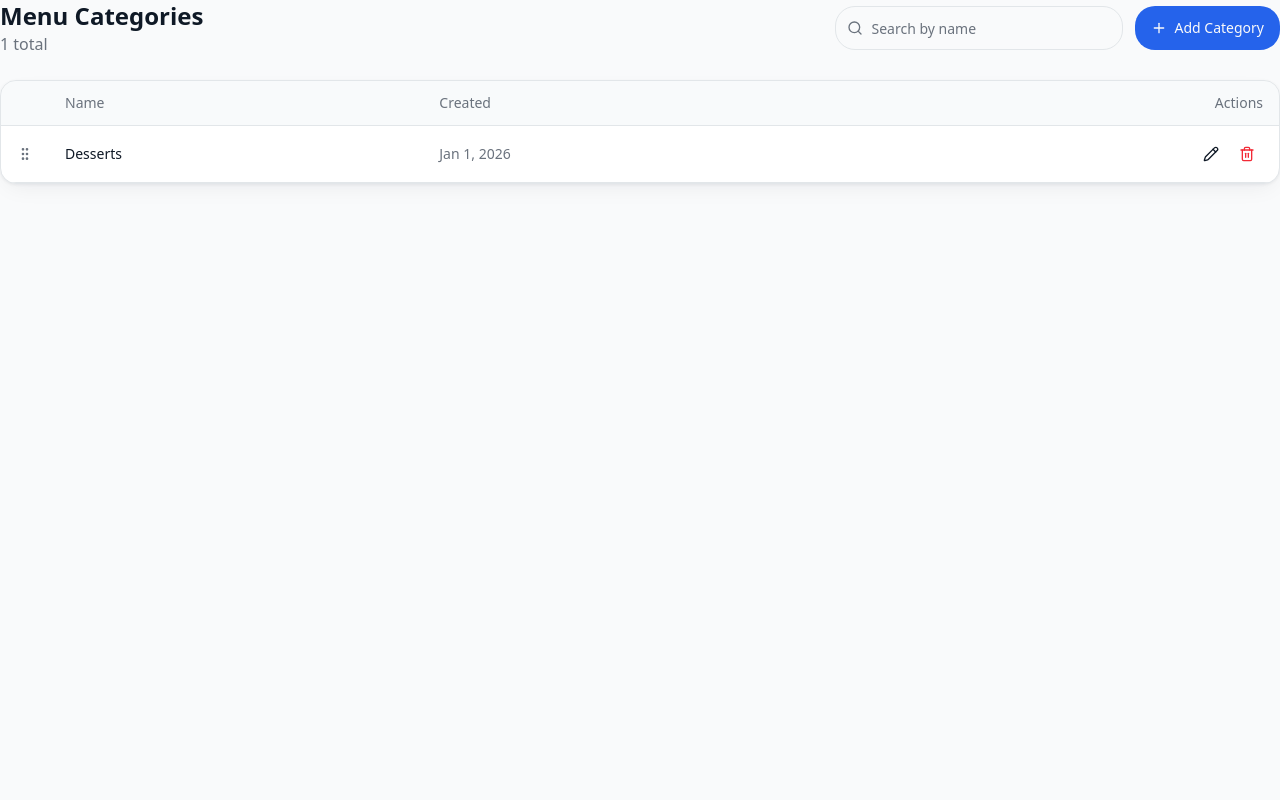
Test: AdminCategoriesPage › maps duplicate name conflict onto the name field
This screenshot has width=1280, height=800.
Check: the text "Desserts" is shown, box left=49, top=126, right=423, bottom=182
Click the button "Add Category" at (1207, 28), box left=1134, top=6, right=1279, bottom=50
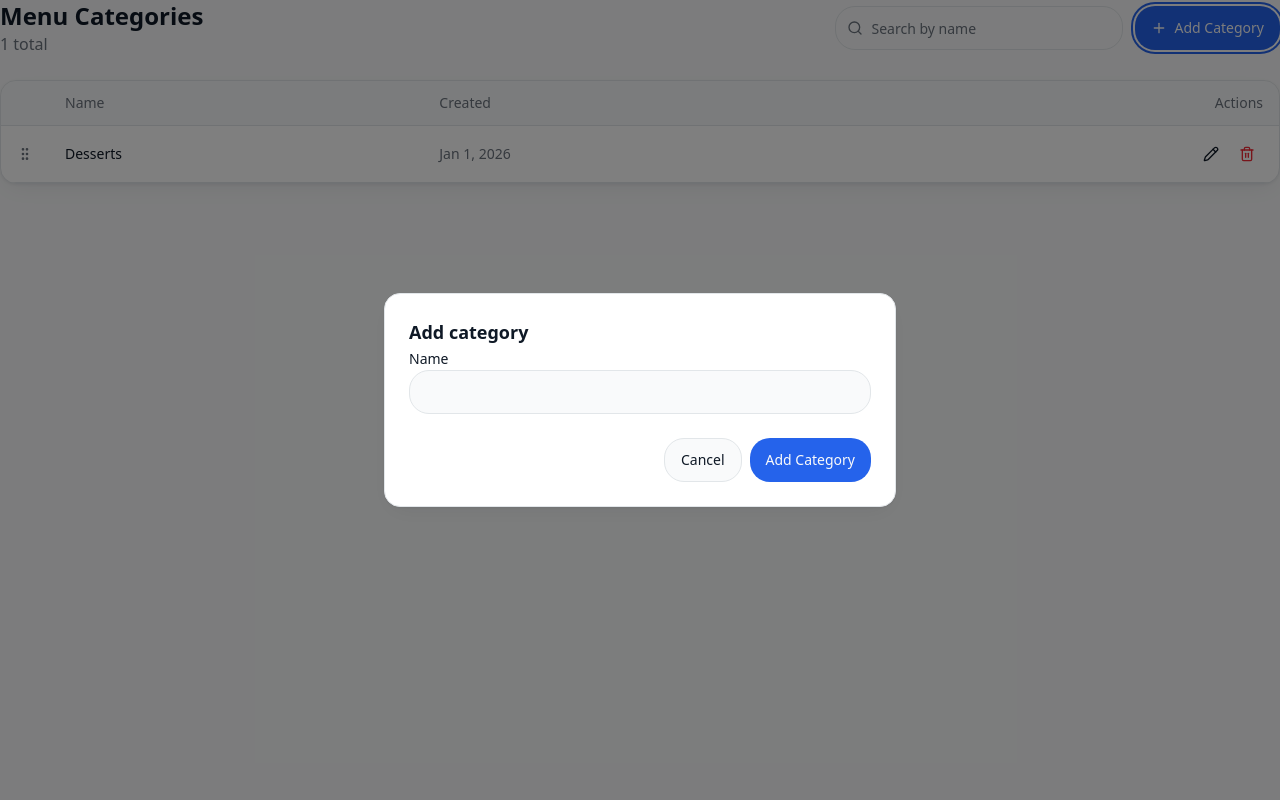
Type "Desserts" into the field labelled "Name" at (640, 392), box left=409, top=370, right=871, bottom=414
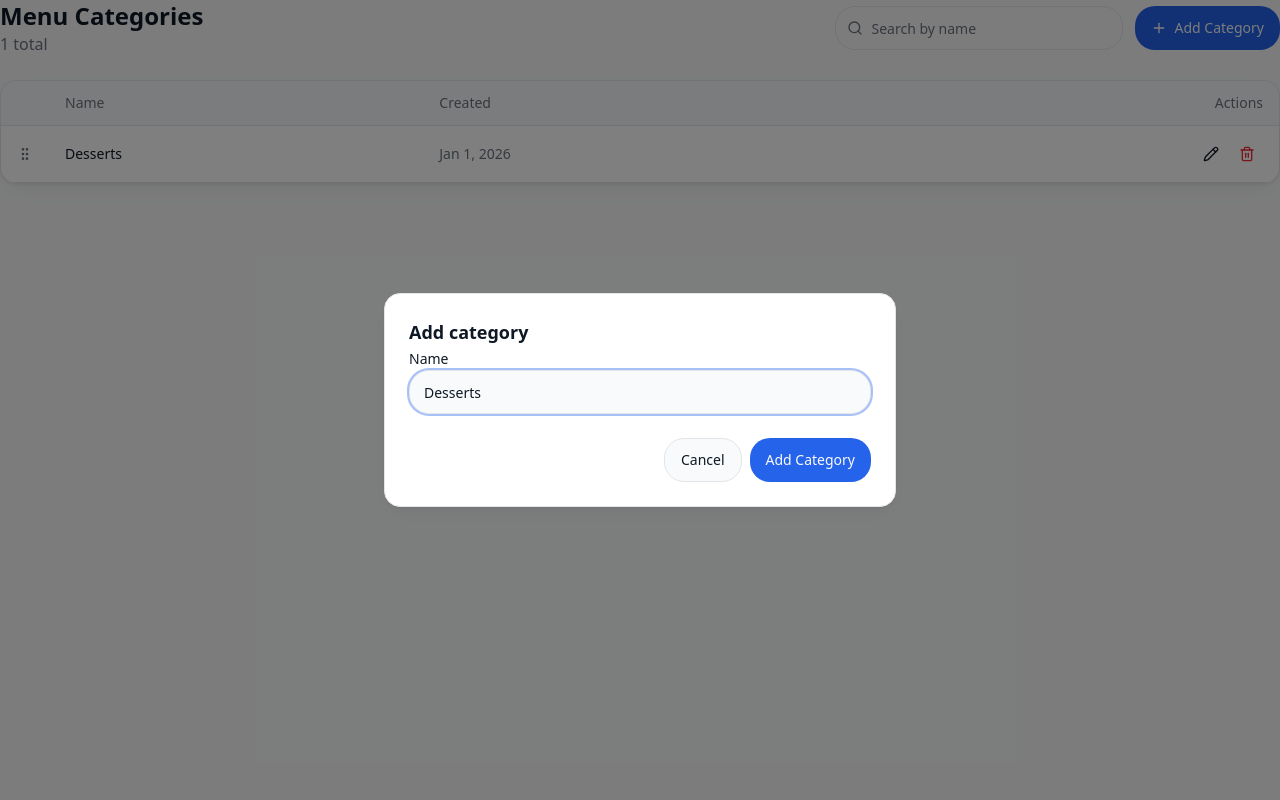
Click the button "Add Category" at (810, 460), box left=750, top=438, right=871, bottom=482
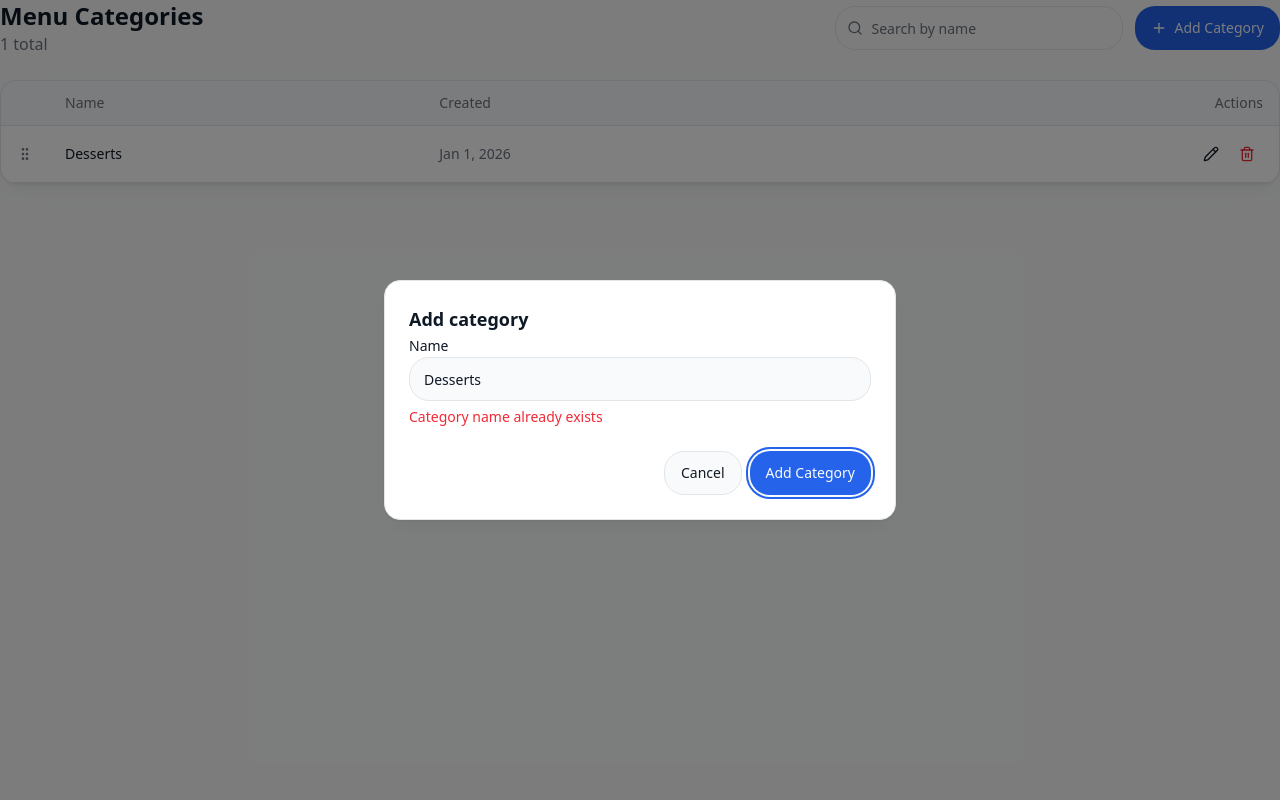
Check: the dialog is shown, box left=384, top=280, right=896, bottom=520
Check: the text "Category name already exists" is shown, box left=409, top=407, right=603, bottom=426
